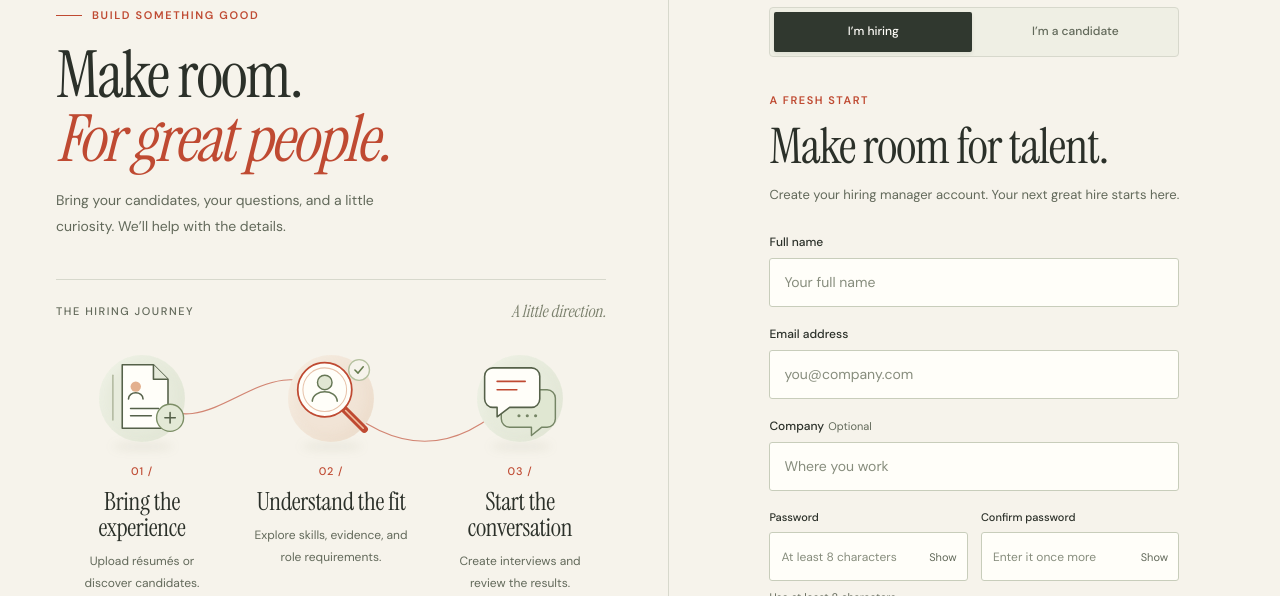
Test: what it checks before sending anything › says what is wrong with an email that is not one
The width and height of the screenshot is (1280, 596).
In the field labelled "Full name": (974, 282) [769, 258, 1179, 307], type "Jane Smith"
In the field labelled "Email address": (974, 374) [769, 350, 1179, 399], type "jane@co"
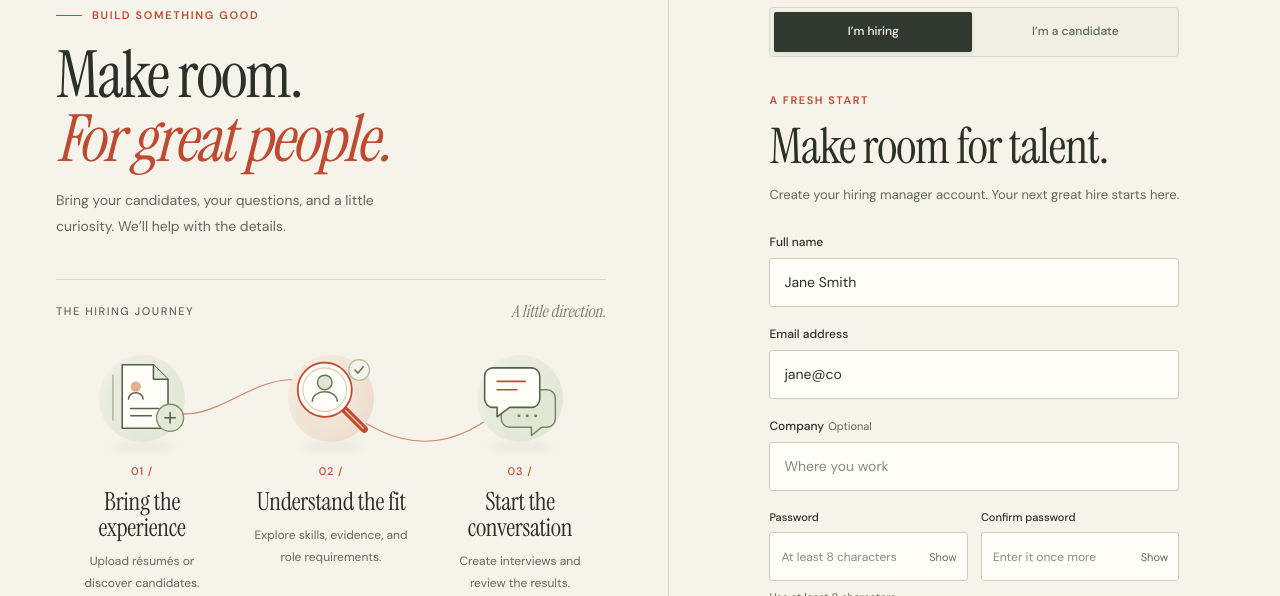
In the field labelled "Company Optional": (974, 466) [769, 442, 1179, 491], type "Acme Inc."
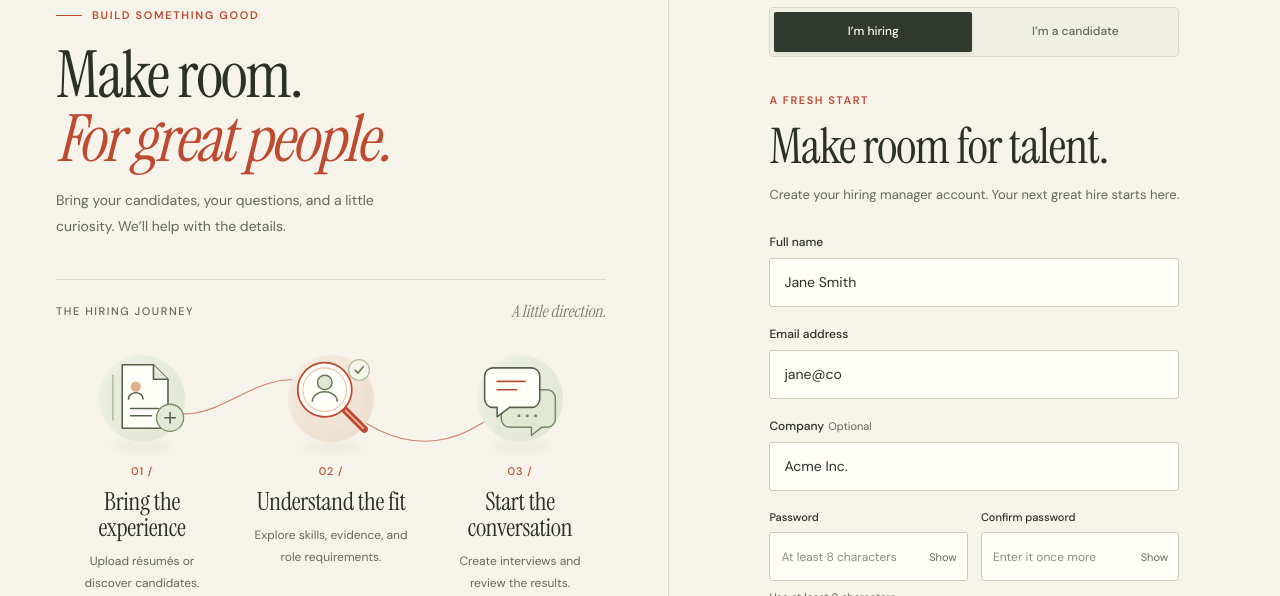
In the password field labelled "Password": (869, 557) [769, 532, 968, 581], type "hunter2hunter2"
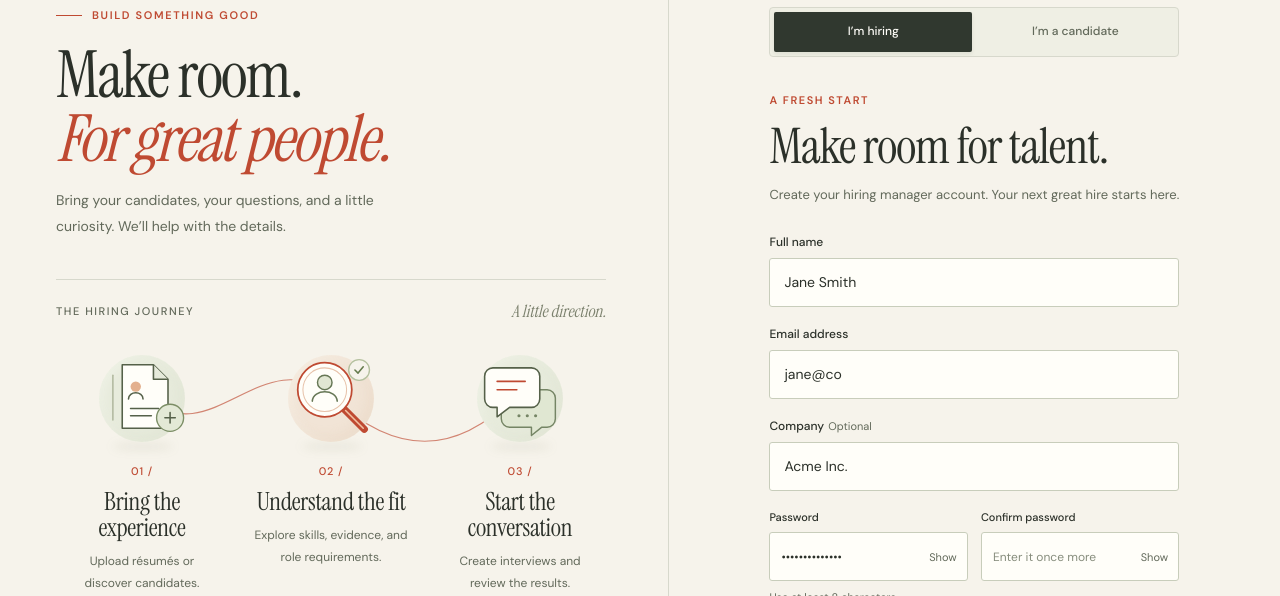
In the password field labelled "Confirm password": (1080, 557) [981, 532, 1179, 581], type "hunter2hunter2"
(page scrolled)
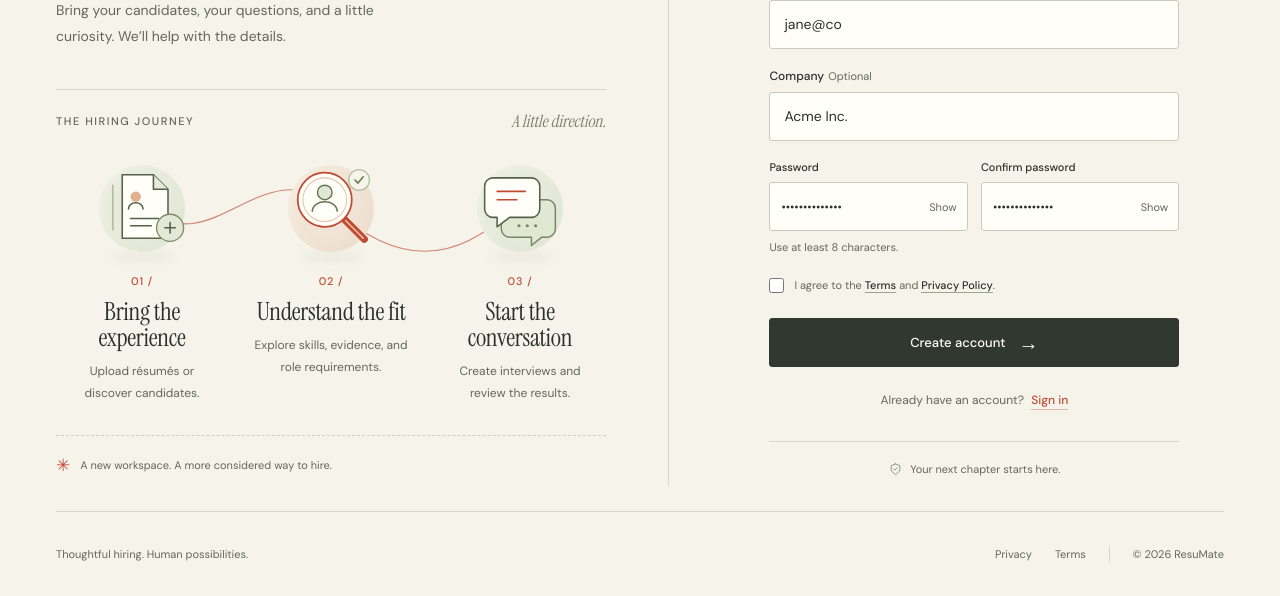
Click the checkbox labelled "I agree to the Terms and Privacy Policy .": (777, 286) [769, 278, 784, 293]
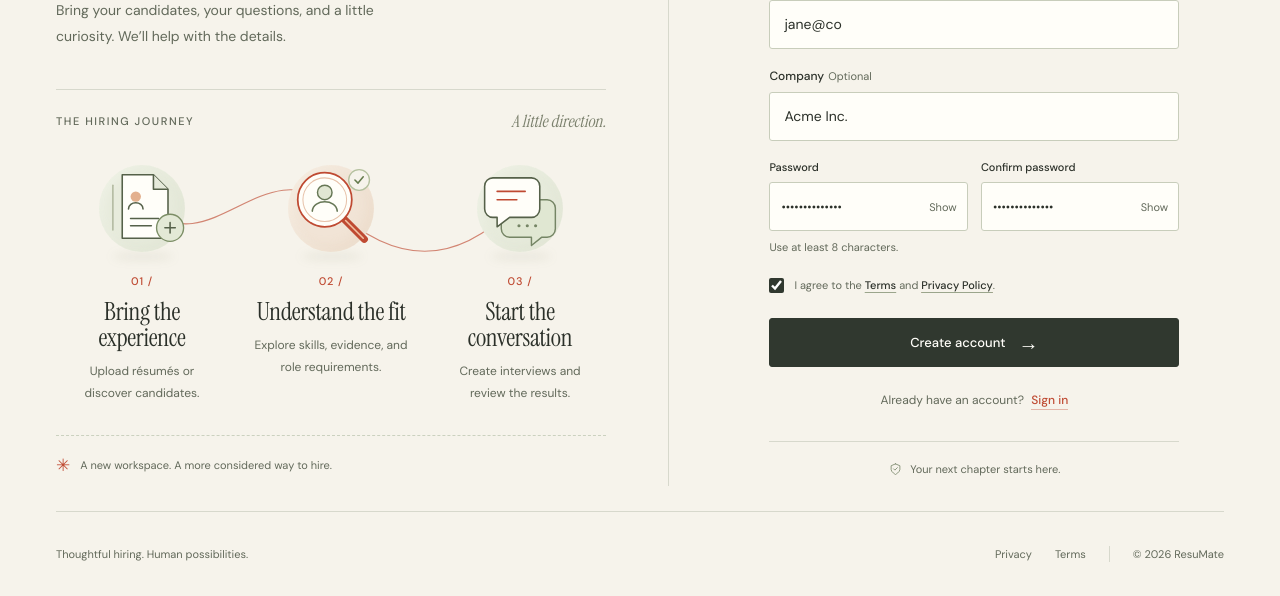
Click the button "Create account →": (974, 343) [769, 318, 1179, 367]
(page scrolled)
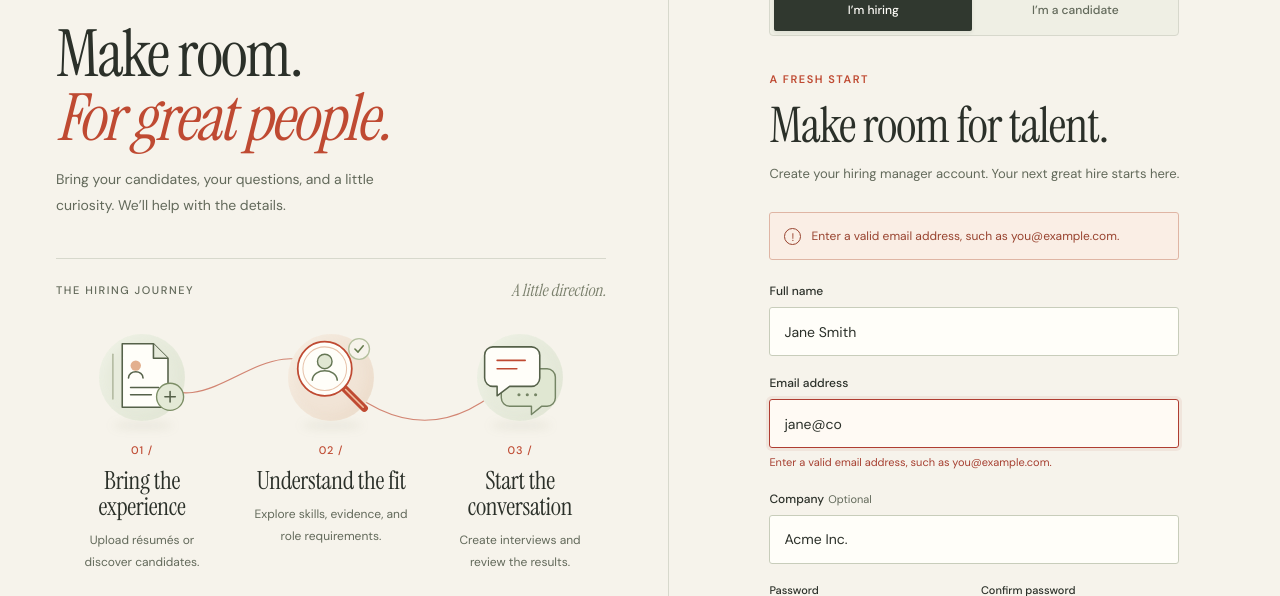
Expected: the message shows "Enter a valid email address, such as you@example.com.", [811, 228, 1119, 244]
